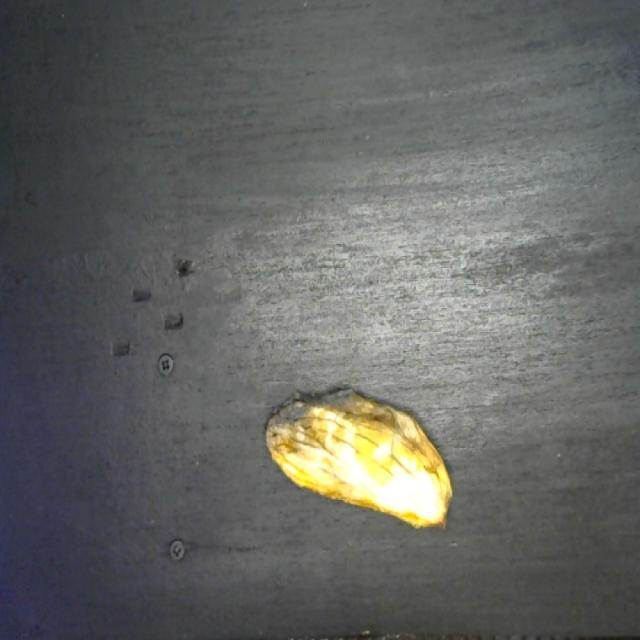biodegradable: (258, 384, 460, 539)
